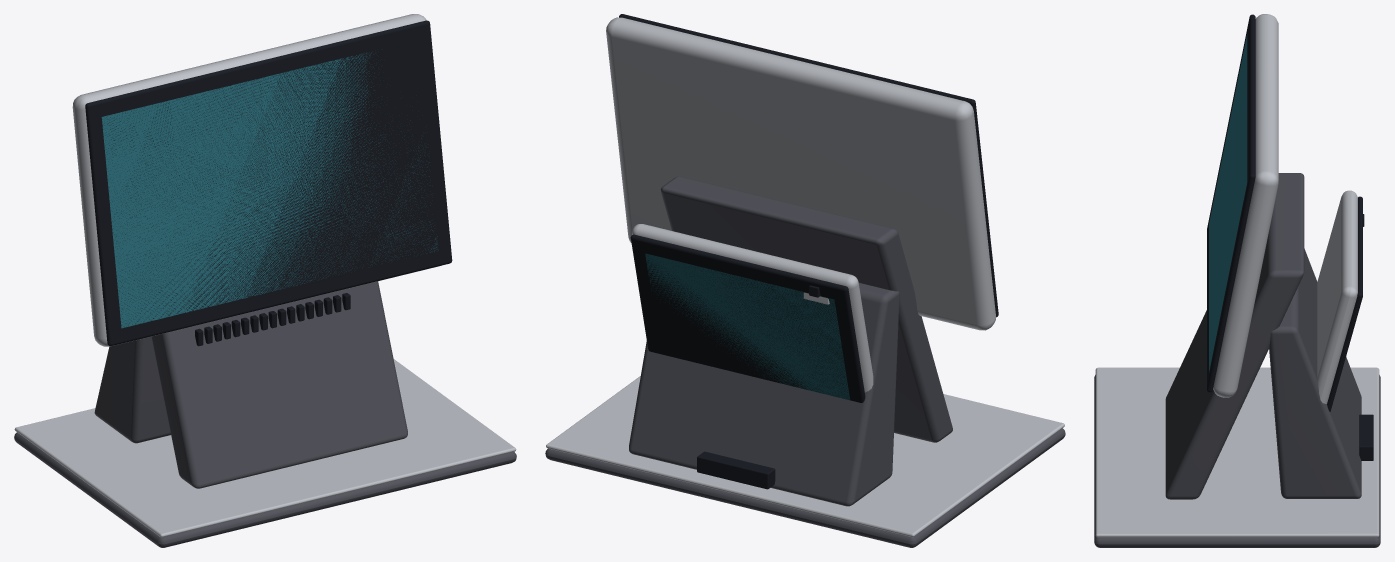
The picture shows the model from 3 angles, left to right: view 1: azimuth 30°, elevation 25°; view 2: azimuth 150°, elevation 25°; view 3: azimuth 270°, elevation 25°; orthographic projection. The views are drawn at different scales.
Visible parts, largest first — view 1: Screen_MainBezel, Screen_Main, Broad inclined main support, Plinth silver rim, Screen_MainSilverEdge, Customer display integrated foot, Wide low plinth; view 2: Screen_MainSilverEdge, Customer display integrated foot, Plinth silver rim, Broad inclined main support, Screen_CustomerBezel, Screen_Customer, Wide low plinth, Screen_CustomerSilverEdge, Screen_MainBezel, Cable recess; view 3: Plinth silver rim, Broad inclined main support, Customer display integrated foot, Screen_MainSilverEdge, Screen_Main, Screen_CustomerSilverEdge, Wide low plinth, Screen_MainBezel, Screen_CustomerBezel, Cable recess.
Part boxes in pixels (<box>): Screen_MainBezel: <box>85,20,452,346</box>; Screen_Main: <box>101,52,438,328</box>; Broad inclined main support: <box>151,281,407,488</box>; Plinth silver rim: <box>14,359,516,537</box>; Screen_MainSilverEdge: <box>72,14,439,346</box>; Customer display integrated foot: <box>94,336,170,443</box>; Wide low plinth: <box>14,432,516,547</box>; Screen_MainSilverEdge: <box>606,17,995,330</box>; Customer display integrated foot: <box>629,283,899,506</box>; Plinth silver rim: <box>546,376,1064,537</box>; Broad inclined main support: <box>660,176,952,442</box>; Screen_CustomerBezel: <box>630,234,865,402</box>; Screen_Customer: <box>645,253,850,400</box>; Wide low plinth: <box>545,428,1065,547</box>; Screen_CustomerSilverEdge: <box>632,224,873,392</box>; Screen_MainBezel: <box>619,14,998,317</box>; Cable recess: <box>697,451,775,489</box>; Plinth silver rim: <box>1095,367,1379,537</box>; Broad inclined main support: <box>1165,173,1304,499</box>; Customer display integrated foot: <box>1269,248,1361,498</box>; Screen_MainSilverEdge: <box>1213,14,1278,397</box>; Screen_Main: <box>1209,34,1247,372</box>; Screen_CustomerSilverEdge: <box>1317,190,1357,403</box>; Wide low plinth: <box>1094,375,1380,547</box>; Screen_MainBezel: <box>1207,14,1255,392</box>; Screen_CustomerBezel: <box>1327,196,1362,411</box>; Cable recess: <box>1359,414,1373,460</box>.
Bounding box in the file's own units: 0.39 × 0.4017 × 0.28.
